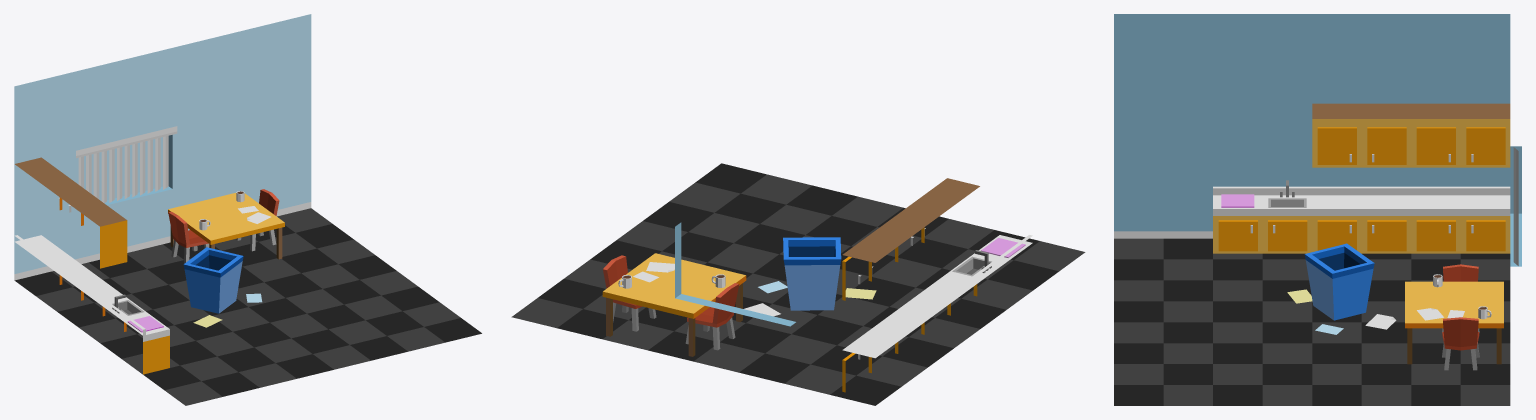
The model's file is office.glb.
3 renders of one model, left to right at view 1: azimuth 30°, elevation 25°; view 2: azimuth 150°, elevation 25°; view 3: azimuth 270°, elevation 25°, orthographic. The views are drawn at different scales.
Parts seen in each view (by area): view 1: Room, Trash, Chair, Chair.001; view 2: Room, Trash, Chair, Chair.001; view 3: Room, Trash, Chair.001, Chair.
Part boxes in pixels (x1,y1,x2,y2): Room: (14,14,481,405); Trash: (183,247,243,313); Chair: (168,211,209,263); Chair.001: (235,189,279,251); Room: (511,163,1085,405); Trash: (783,237,841,310); Chair: (685,283,739,350); Chair.001: (603,255,656,331); Room: (1114,14,1521,405); Trash: (1304,243,1374,320); Chair.001: (1442,317,1479,370); Chair: (1442,264,1479,332).
Bounding box in the file's own units: 8 × 5 × 8.23.
Materials: 1 (1 with a texture image).
